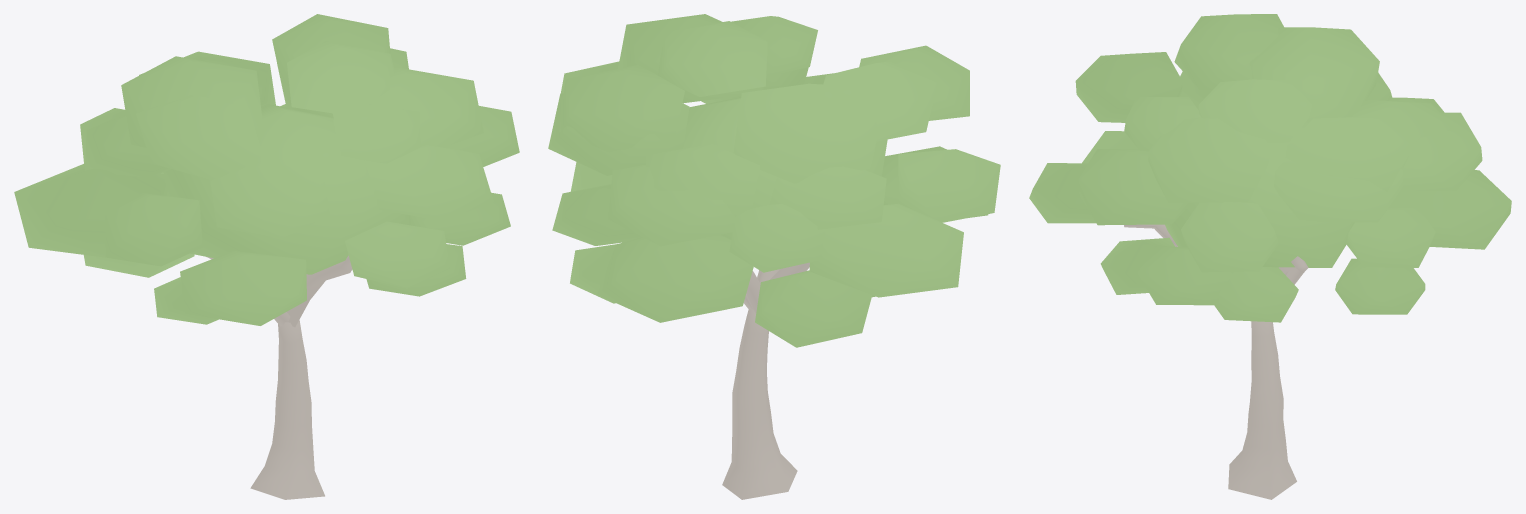
Rendered from Blender_LakeBlackOak_2_Far.glb.
3 renders of one model, left to right at view 1: azimuth 30°, elevation 25°; view 2: azimuth 150°, elevation 25°; view 3: azimuth 270°, elevation 25°, orthographic. The views are drawn at different scales.
Parts seen in each view (by area): view 1: Blender_LakeBlackOak_2_Far; view 2: Blender_LakeBlackOak_2_Far; view 3: Blender_LakeBlackOak_2_Far.
Part boxes in pixels (box(x1,y1,x2,y2)): Blender_LakeBlackOak_2_Far: box(14, 14, 519, 499); Blender_LakeBlackOak_2_Far: box(548, 14, 1000, 499); Blender_LakeBlackOak_2_Far: box(1029, 14, 1511, 499).
Bounding box in the file's own units: 15.06 × 14.52 × 14.83.
